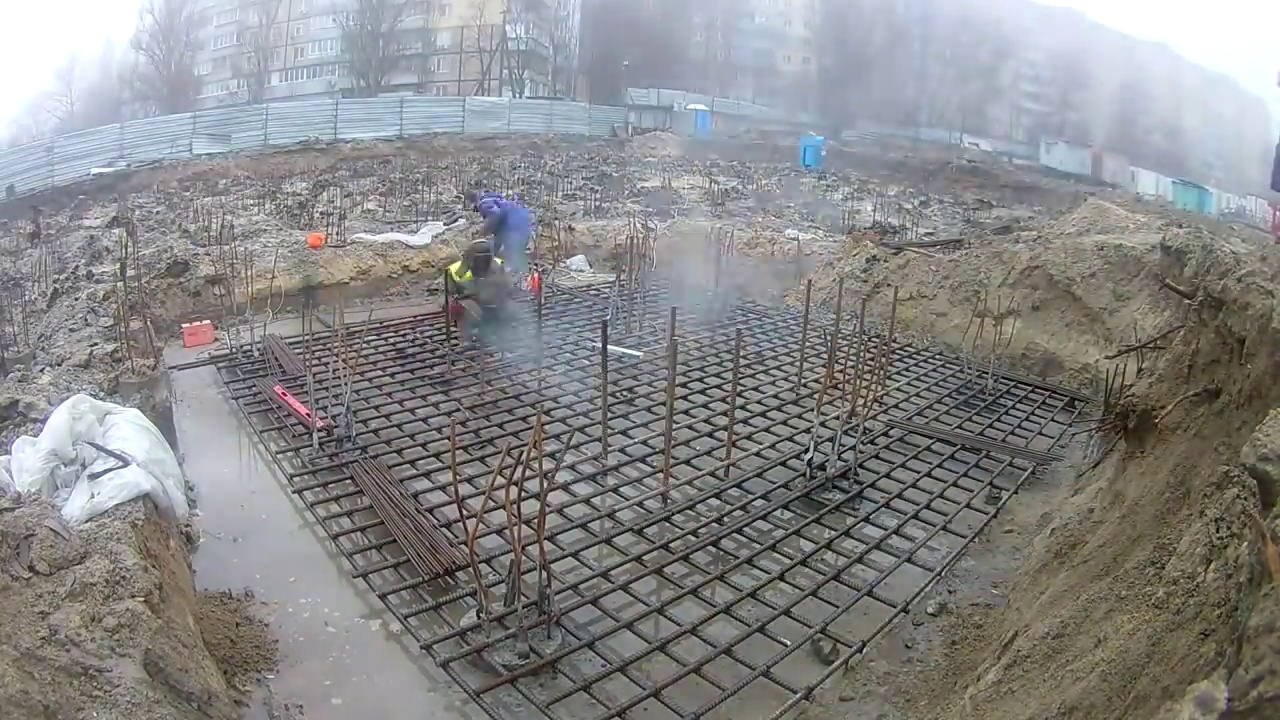helmet: (528, 270, 543, 304), (302, 233, 326, 249)
helmet-off: (459, 240, 498, 286)
person: (442, 241, 516, 356), (473, 193, 533, 283)
